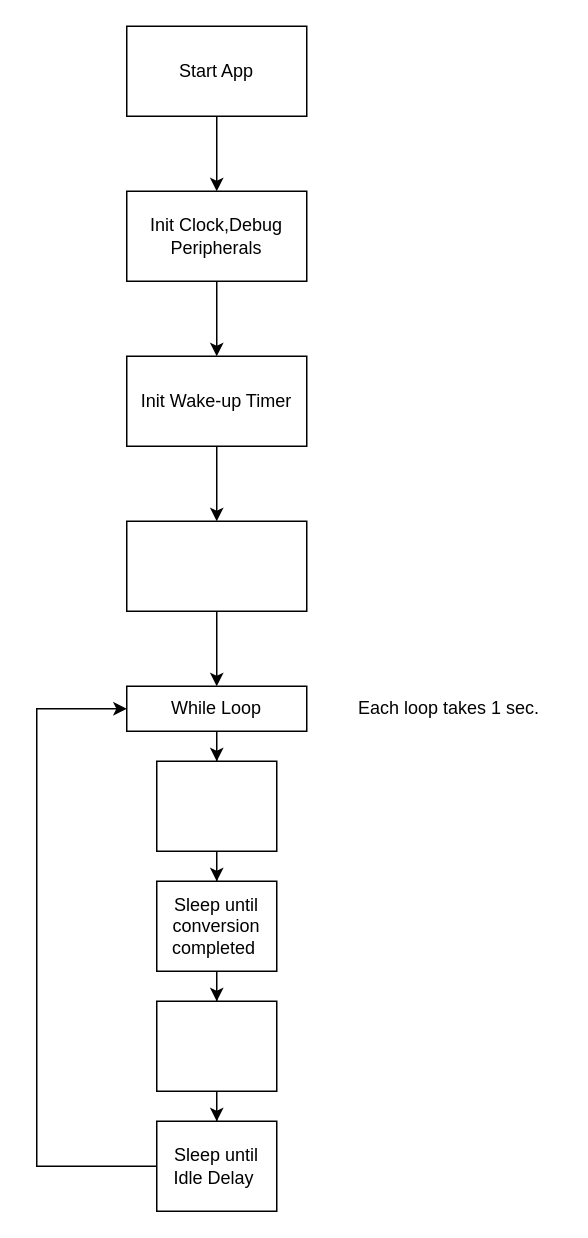
The diagram is 588 pixels wide and 1238 high, and some of its shapes have lost their labels. Each missing label, with the centre of its shape:
BME280 Init: point 216,565
Get Data and Print: point 216,1045
Set and Start BME280: point 216,805
